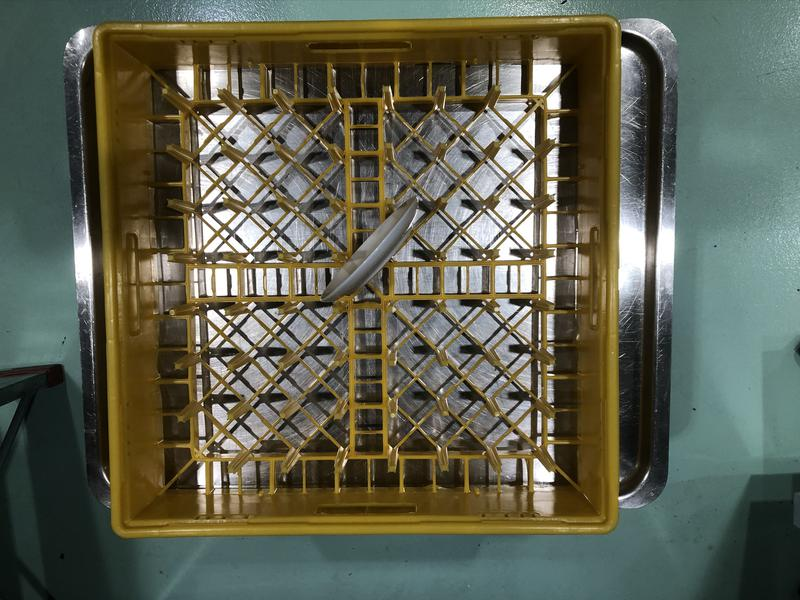Inclined_dish: (319, 196, 417, 301)
